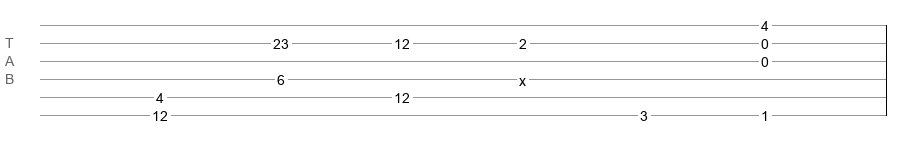0: (761, 54, 769, 64), (761, 36, 769, 46)
1: (761, 108, 769, 118)
12: (152, 108, 168, 118), (394, 90, 410, 100), (394, 36, 410, 46)
2: (519, 36, 527, 46)
23: (273, 36, 289, 46)
3: (640, 108, 648, 118)
4: (156, 90, 164, 100), (761, 18, 769, 28)
6: (277, 72, 285, 82)
x: (519, 73, 526, 81)
